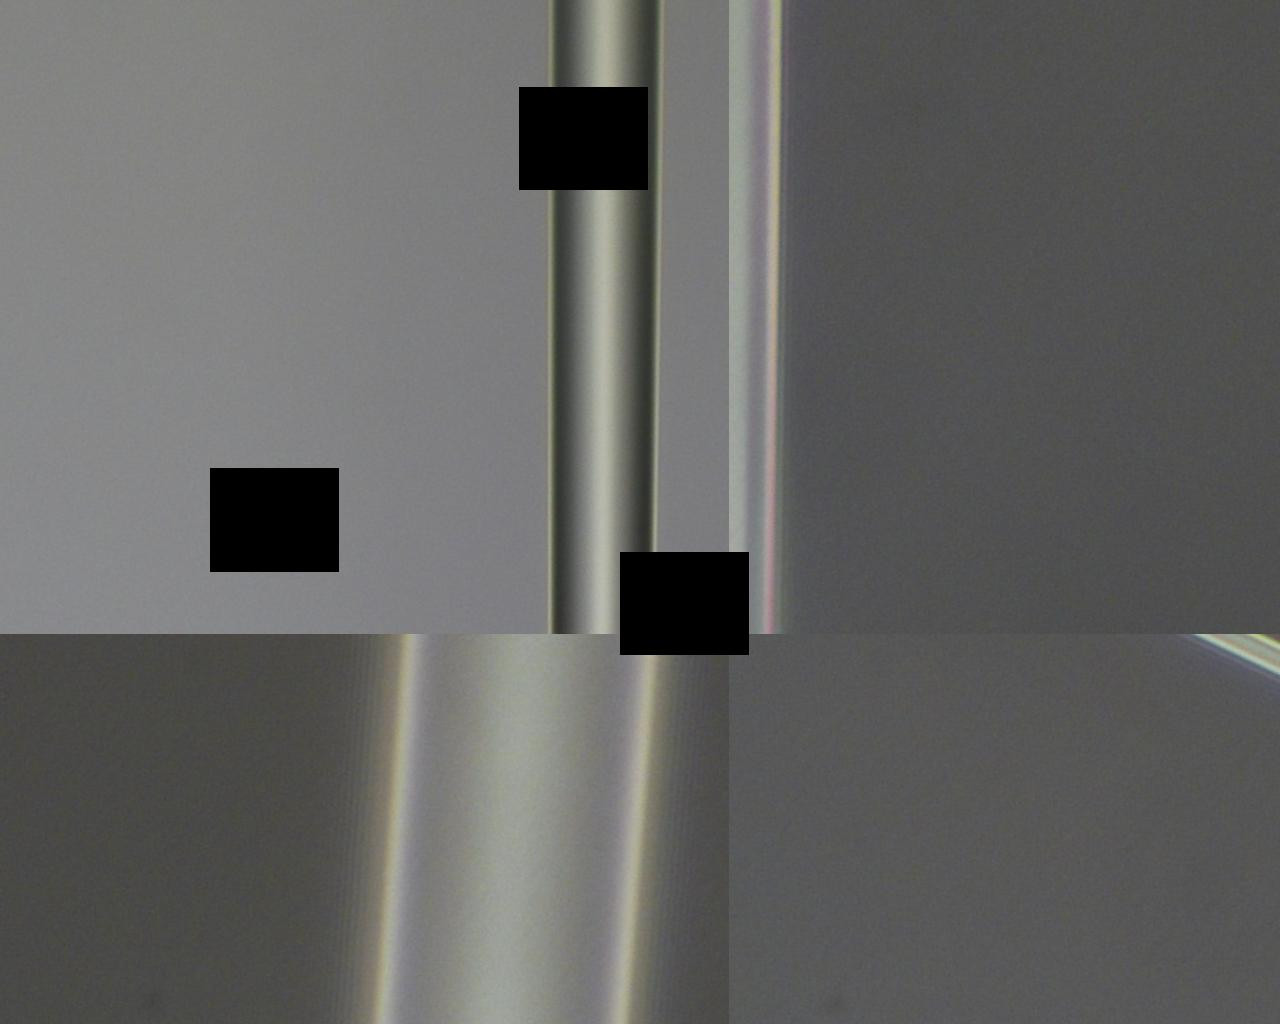fiber: (696, 0, 1086, 491), (856, 491, 1028, 1024)
